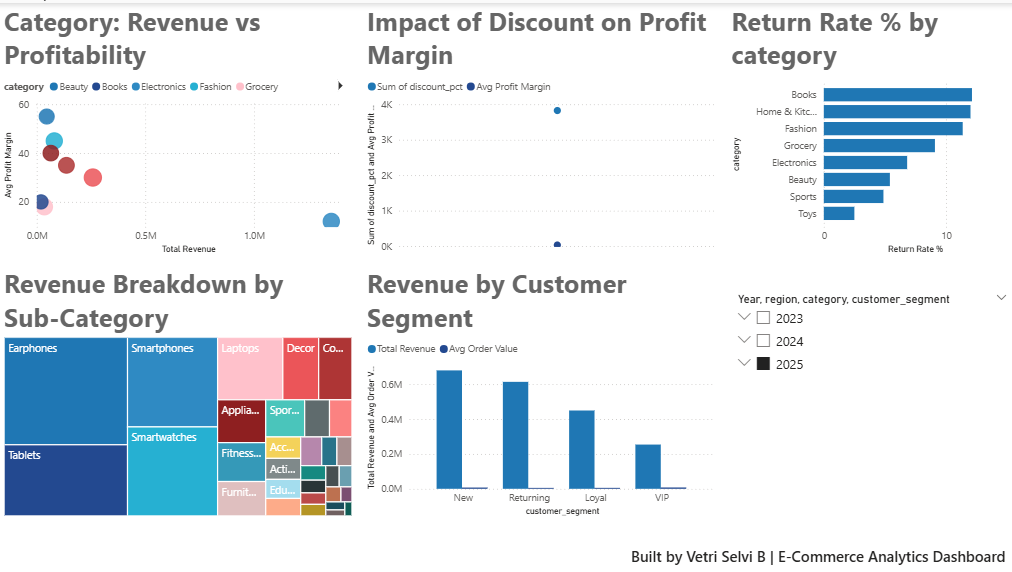

This screenshot's page, from the dashboard's own definition file:
{"tool":"powerbi","page":{"name":"Category & Product Intelligence","canvas":[1280,720],"ordinal":1},"visuals":[{"type":"scatterChart","title":"Category: Revenue vs Profitability","fields":{"X":["ecommerce_sales.Total Revenue"],"Y":["ecommerce_sales.Avg Profit Margin"],"Size":["ecommerce_sales.Total Orders"],"Series":["ecommerce_sales.category"]},"box":[0,0,448,320],"z":0},{"type":"treemap","title":"Revenue Breakdown by Sub-Category","fields":{"Group":["ecommerce_sales.sub_category"],"Values":["ecommerce_sales.Total Revenue"]},"box":[0,330,448,320],"z":1000},{"type":"lineChart","title":"Impact of Discount on Profit Margin","fields":{"Y":["Sum(ecommerce_sales.discount_pct)","ecommerce_sales.Avg Profit Margin"]},"box":[458,0,448,320],"z":2000},{"type":"clusteredColumnChart","title":"Revenue by Customer Segment","fields":{"Category":["ecommerce_sales.customer_segment"],"Y":["ecommerce_sales.Total Revenue","ecommerce_sales.Avg Order Value"]},"box":[458,330,448,320],"z":3000},{"type":"barChart","fields":{"Category":["ecommerce_sales.category"],"Y":["ecommerce_sales.Return Rate %"]},"box":[916,0,364,320],"z":4000},{"type":"slicer","fields":{"Values":["ecommerce_sales.delivery_date.Variation.Date Hierarchy.Year","ecommerce_sales.region","ecommerce_sales.category","ecommerce_sales.customer_segment"]},"box":[916,360,364,320],"z":4001},{"type":"textbox","box":[790,678,490,42],"z":4002}]}

Visuals, with their boxes in screenshot pixels (x1, y1, x2, y2), scaled from the page's 1280x720 canvas onto the 1012x572 screenshot:
"Category: Revenue vs Profitability" scatterChart: pyautogui.locateOnScreen(0, 0, 354, 254)
"Revenue Breakdown by Sub-Category" treemap: pyautogui.locateOnScreen(0, 262, 354, 516)
"Impact of Discount on Profit Margin" lineChart: pyautogui.locateOnScreen(362, 0, 716, 254)
"Revenue by Customer Segment" clusteredColumnChart: pyautogui.locateOnScreen(362, 262, 716, 516)
barChart - ecommerce_sales.category x ecommerce_sales.Return Rate %: pyautogui.locateOnScreen(724, 0, 1011, 254)
slicer - ecommerce_sales.delivery_date.Variation.Date Hierarchy.Year x ecommerce_sales.region: pyautogui.locateOnScreen(724, 286, 1011, 540)
textbox: pyautogui.locateOnScreen(625, 539, 1011, 571)
